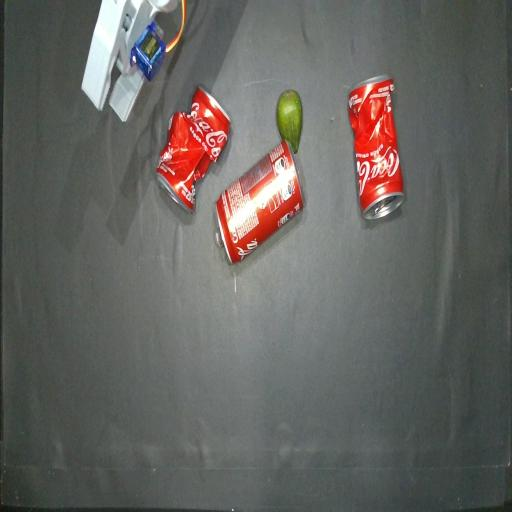higo: (277, 90, 302, 153)
lata: (215, 140, 305, 264)
lata_defectuoso: (157, 86, 230, 211), (349, 75, 405, 219)
